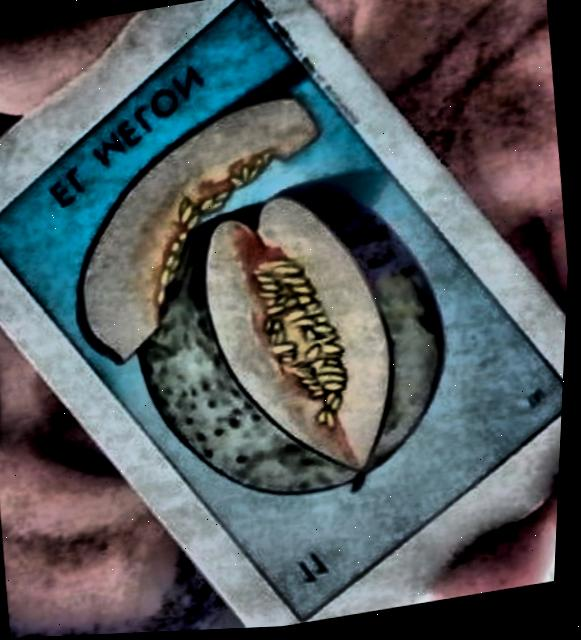El Melon: (0, 2, 567, 619)
